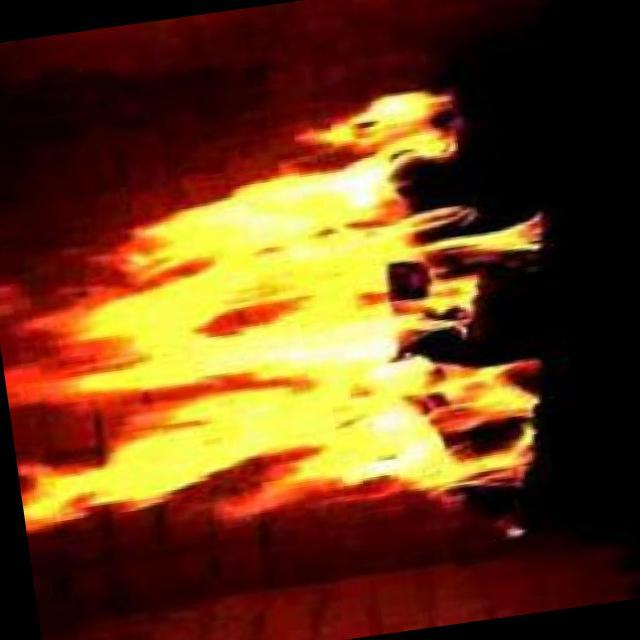Fire: (1, 113, 476, 534)
